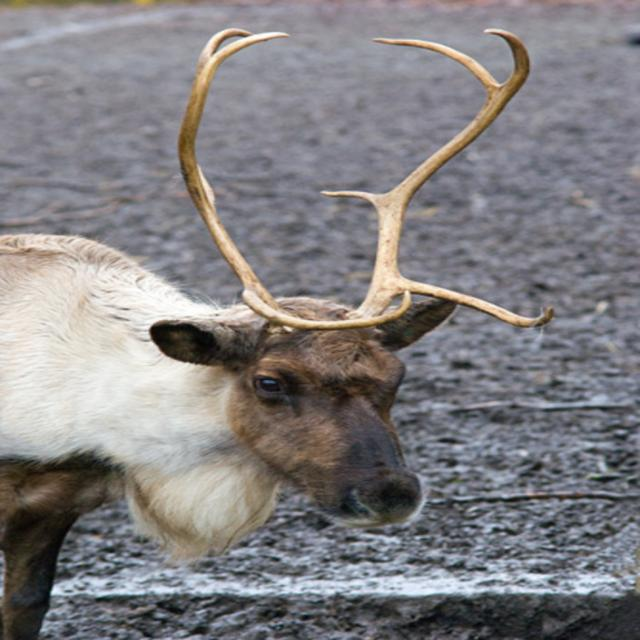Deer: (0, 28, 554, 640)
